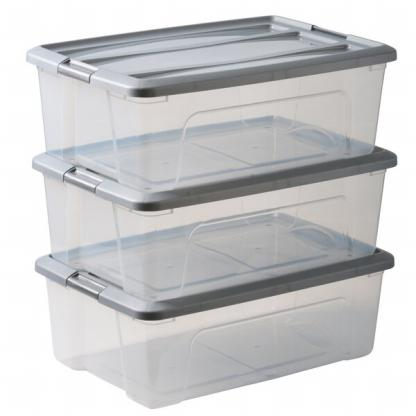plastic_box: (21, 207, 412, 415), (13, 3, 413, 193)
